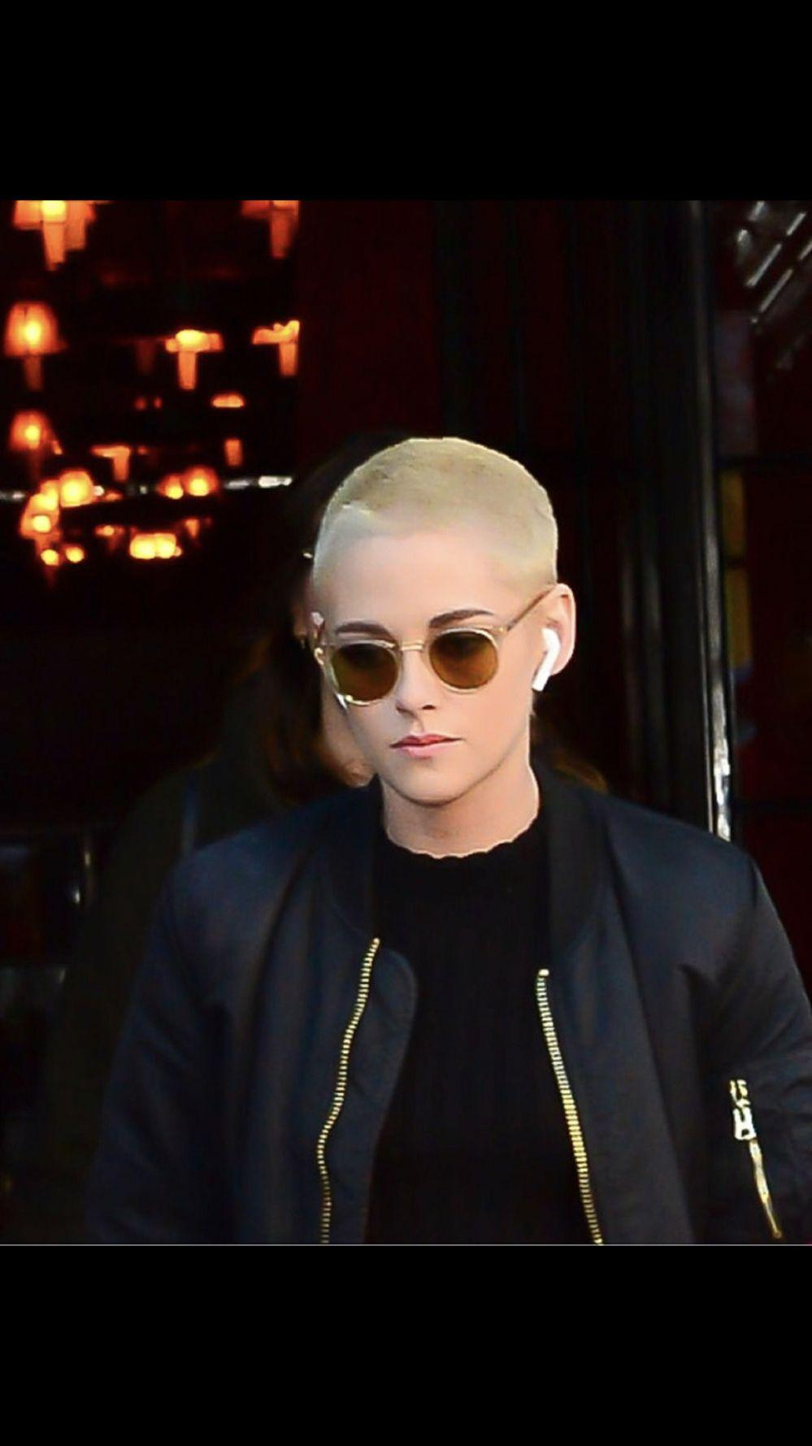earphone: (525, 594, 575, 697)
